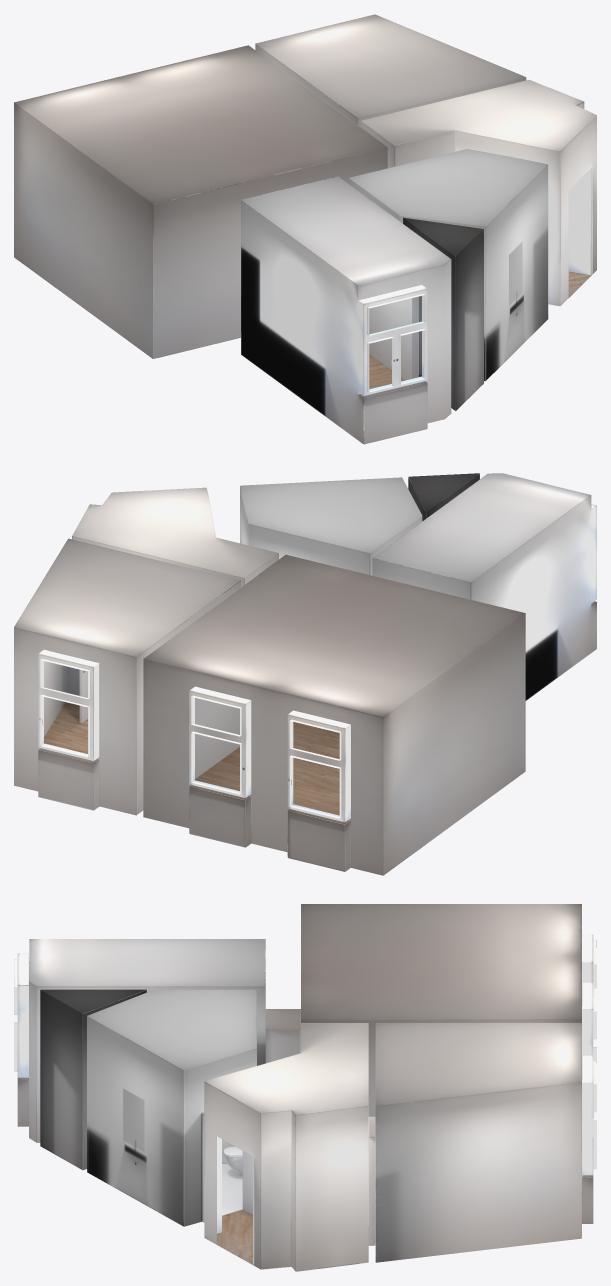
The model's file is room_example_6.glb.
The picture shows the model from 3 angles, top to bottom: view 1: azimuth 30°, elevation 25°; view 2: azimuth 150°, elevation 25°; view 3: azimuth 270°, elevation 25°; orthographic projection. The views are drawn at different scales.
Visible parts, largest first — view 1: wohnung.002; view 2: wohnung.002; view 3: wohnung.002.
Boxes of the visible parts, bbox=[...] form: wohnung.002: bbox=[14, 14, 596, 444]; wohnung.002: bbox=[14, 473, 596, 875]; wohnung.002: bbox=[14, 904, 596, 1271].
Size of the model in its own units: 8.34 by 2.88 by 9.72.
1 material, 1 textured.
